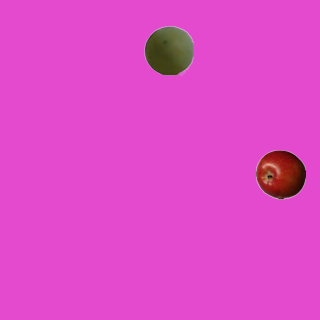Apple Braeburn: (255, 149, 305, 199)
Grape White 4: (143, 25, 193, 75)
